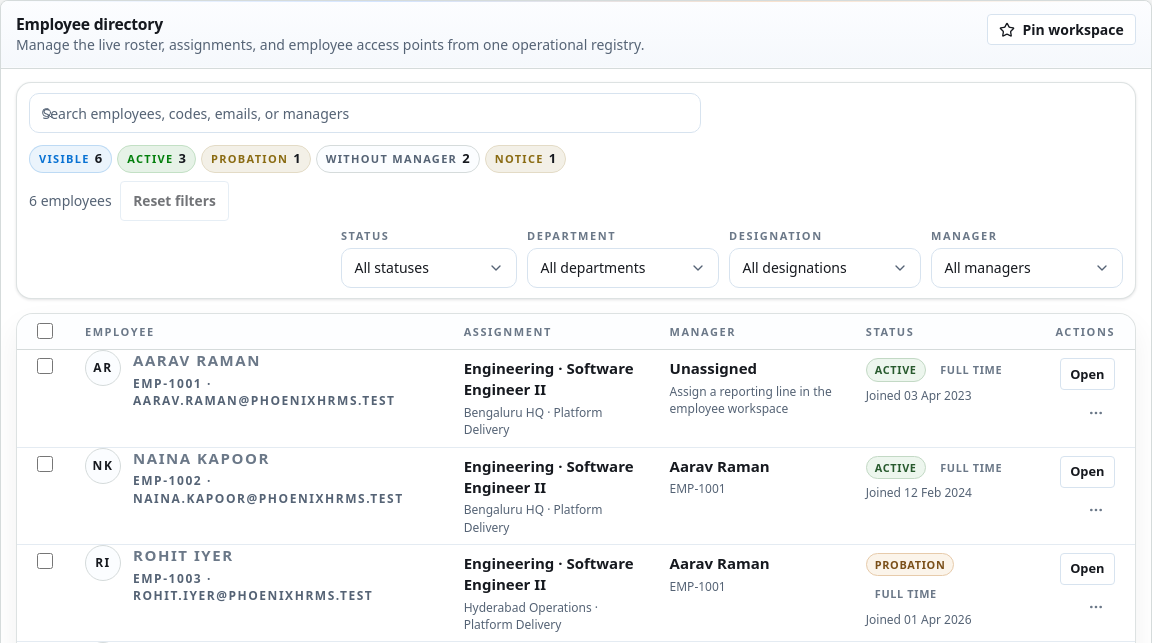
EmployeeDirectoryWorkspace › filters the demo directory by employee search
Expected: the heading "Employee directory" is shown, 16,13 -> 163,35
Type "Kabir" into the search field labelled "Search" at {"x": 365, "y": 113}, box 29,93 -> 701,133
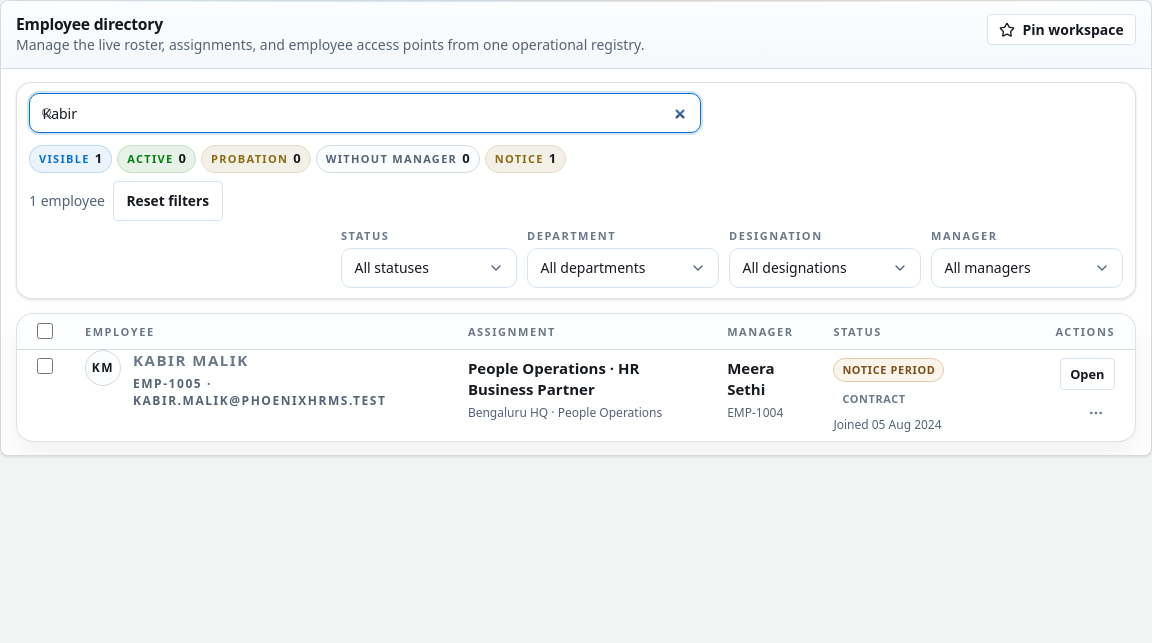
Expected: the link "Kabir Malik" is shown, 133,350 -> 249,371
Expected: the text "EMP-1001" is gone
